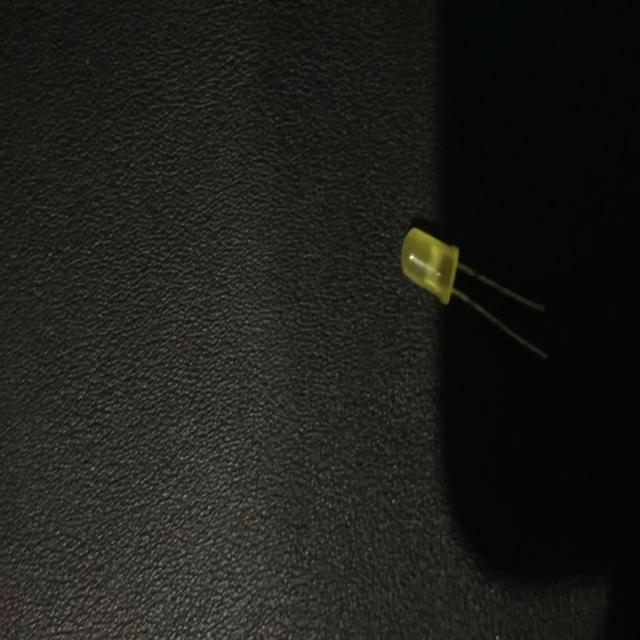LED: (403, 226, 547, 366)
